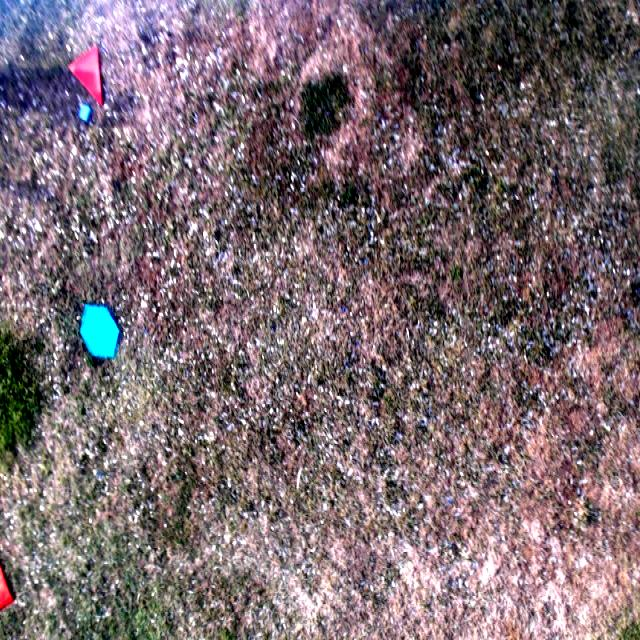blue_hexagon: (80, 304, 120, 358)
red_triangle: (69, 44, 103, 106)
